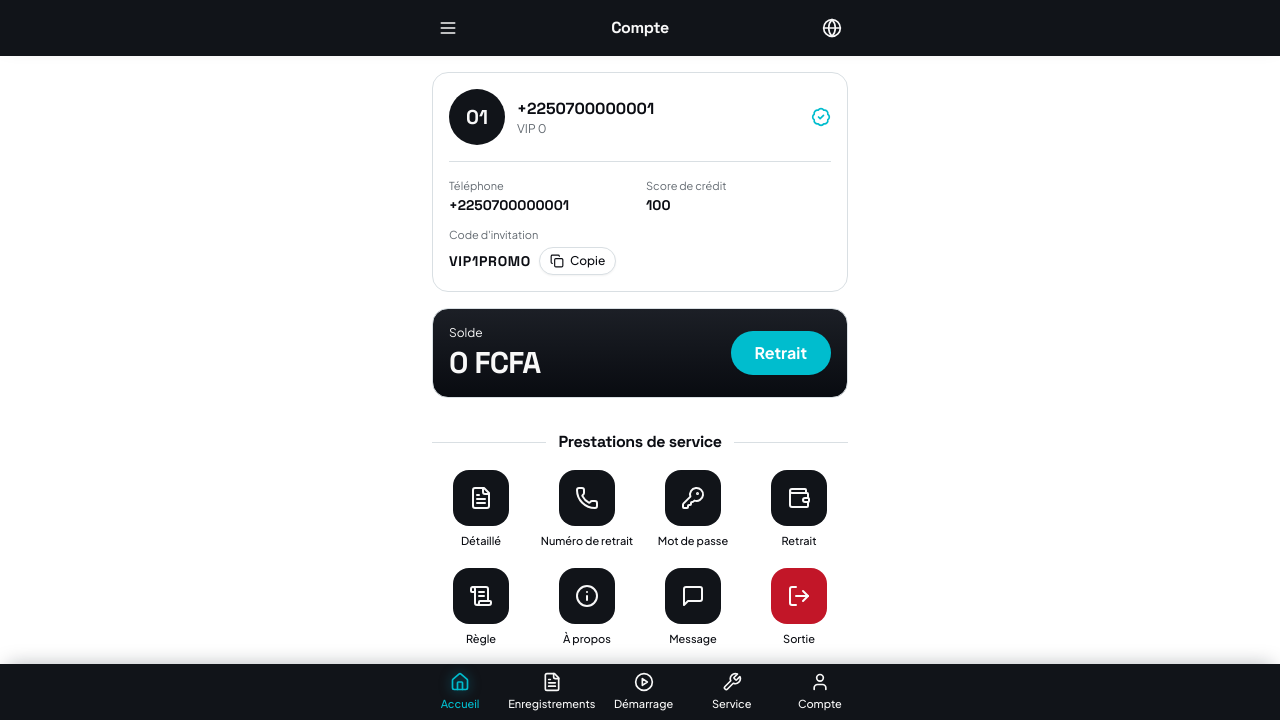
Test: Guide Shop branding › keeps the Guide Shop name in English after switching language
Click the button with test id "nav.language_toggle": click(832, 28) [812,8,852,48]
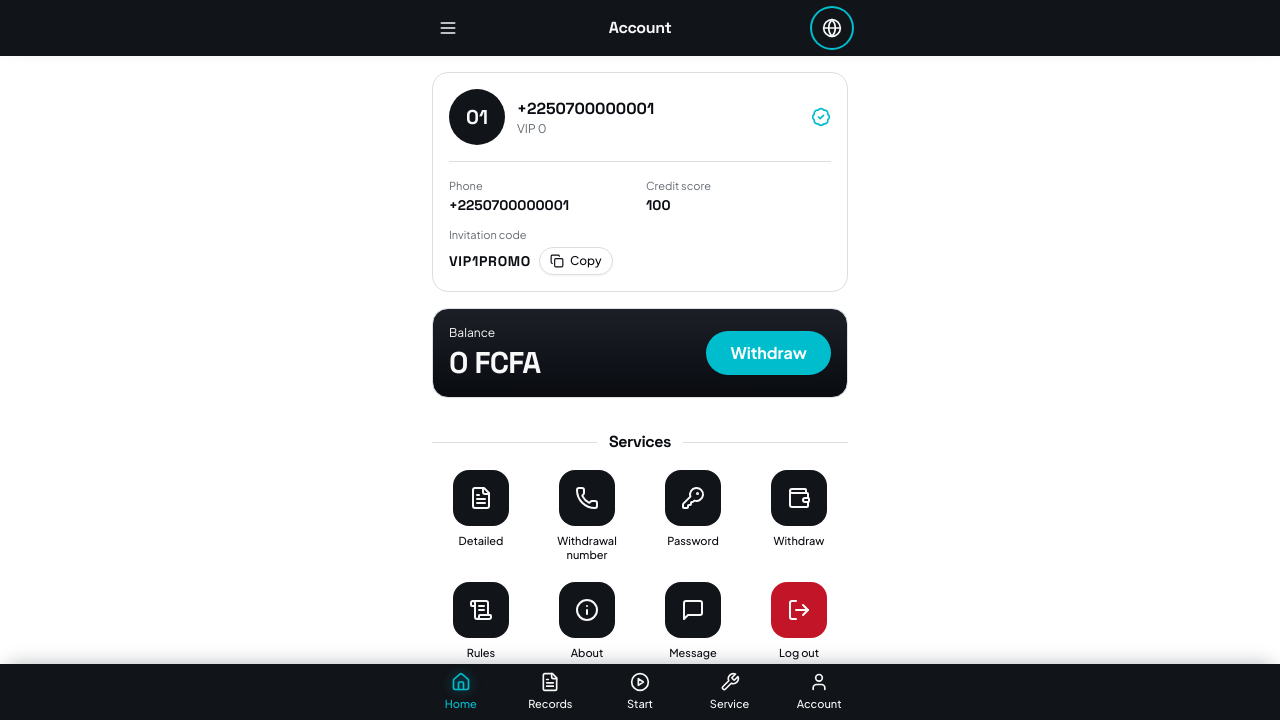
Click the button named "About": click(587, 610) [559,582,615,638]
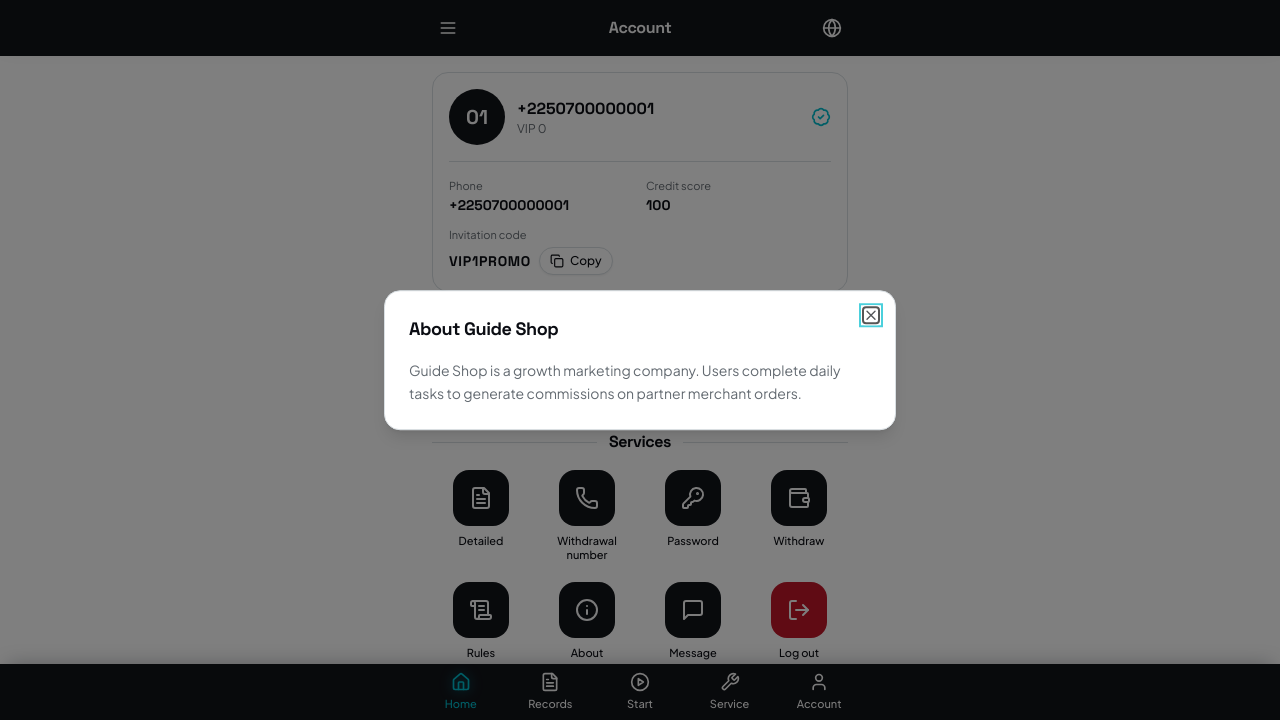
Expected: the heading "About Guide Shop" is shown, [409,317,558,340]
Expected: the text "Guide Shop is a growth marketing company" is shown, [409,361,840,402]
